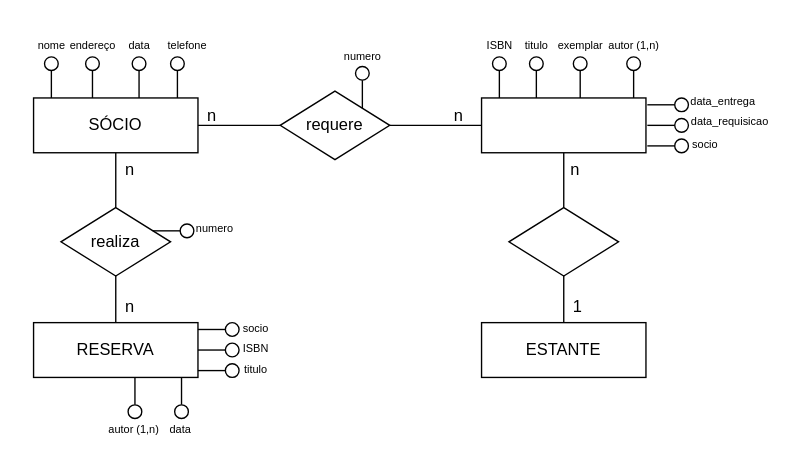
Some shapes in this 807 by 471 pixel diagram are drawn without their labels. The shapes that lost their labels are listed below. From the top down, each one's centre as x and y in pixels, then its label:
(x=563, y=125): LIVRO
(x=563, y=241): esta
